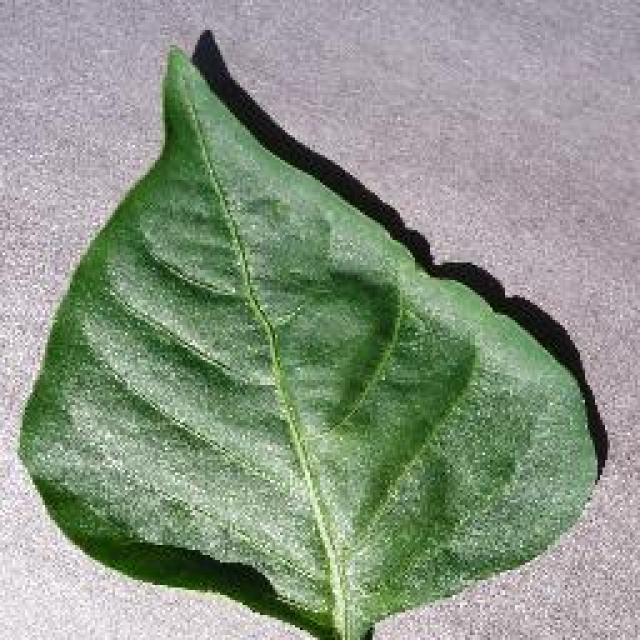Leaf: (16, 37, 624, 640)
